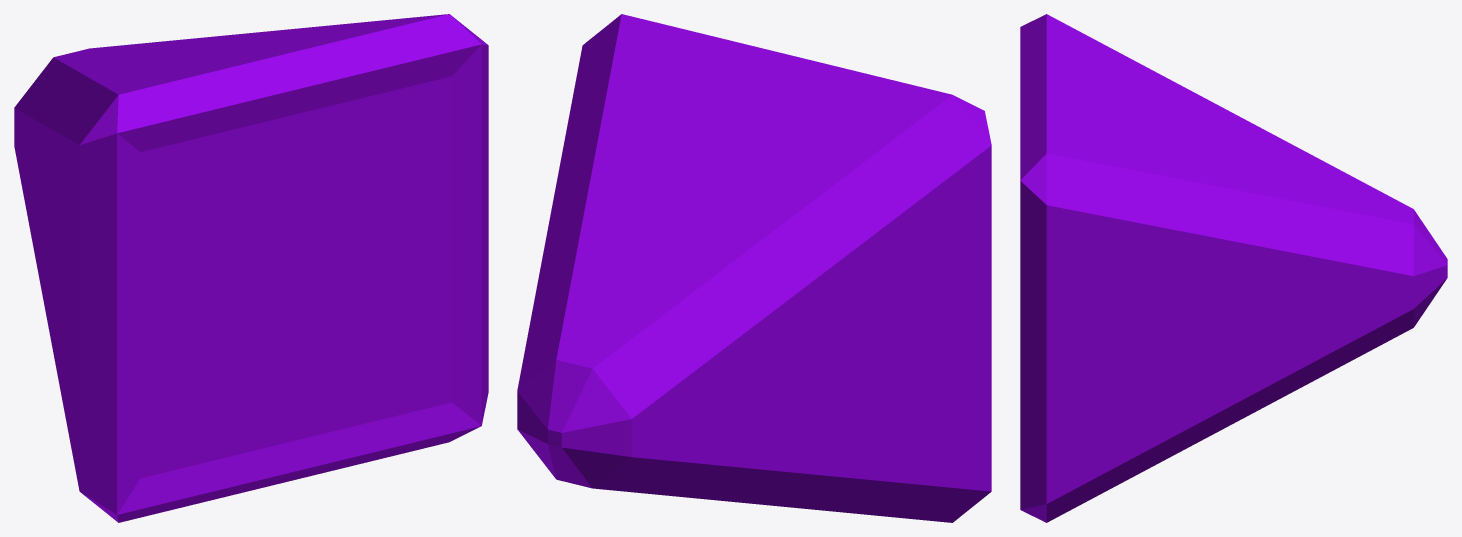
The model's file is enemy.glb.
The picture shows the model from 3 angles, left to right: view 1: azimuth 30°, elevation 25°; view 2: azimuth 150°, elevation 25°; view 3: azimuth 270°, elevation 25°; orthographic projection. The views are drawn at different scales.
Visible parts, largest first — view 1: enemy; view 2: enemy; view 3: enemy.
Part boxes in pixels (left/top/right/bottom): enemy: left=14, top=14, right=488, bottom=522; enemy: left=517, top=14, right=991, bottom=522; enemy: left=1020, top=14, right=1447, bottom=522.
Bounding box in the file's own units: 0.4688 × 0.4688 × 0.4914.
